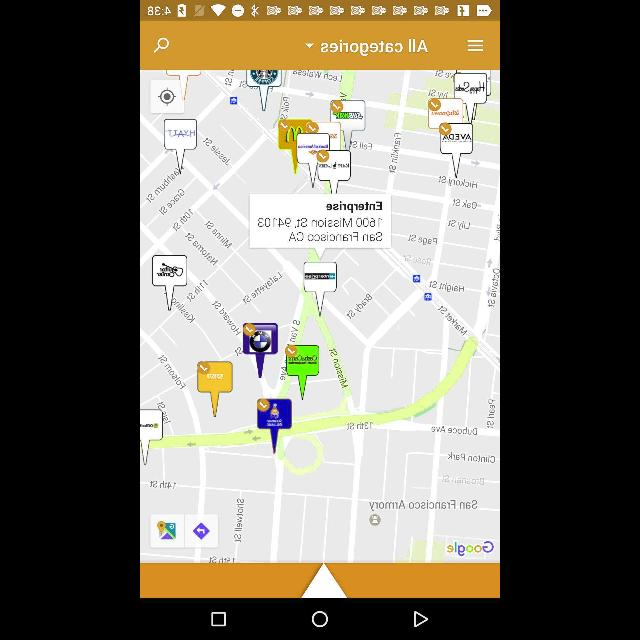icon: (460, 33, 490, 59), (148, 32, 174, 58), (310, 609, 330, 629), (210, 612, 226, 628), (413, 611, 427, 629), (304, 34, 314, 52)
map: (143, 70, 499, 564)
panel: (145, 20, 500, 68), (141, 600, 499, 640), (141, 562, 499, 598)
text: (315, 31, 431, 60)
uppertaskbar: (142, 3, 498, 19)
